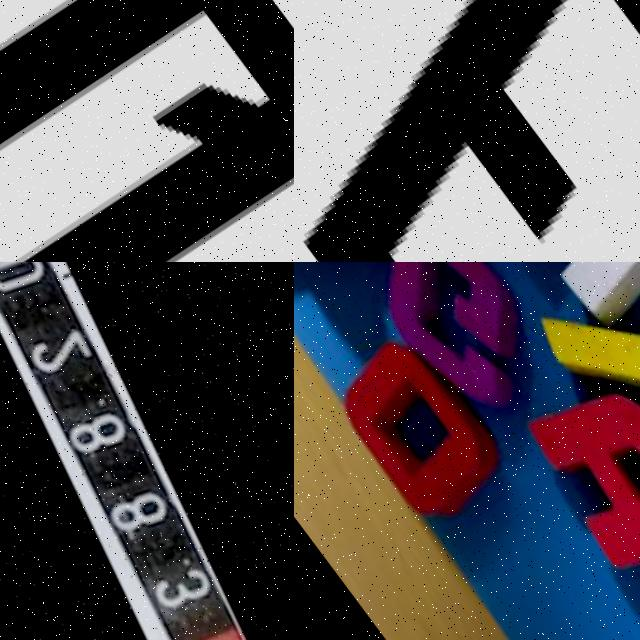0: (0, 262, 53, 309), (163, 618, 252, 640)
2: (5, 303, 95, 387)
3: (128, 540, 214, 619)
8: (43, 383, 135, 470), (83, 462, 174, 546)
E: (294, 0, 573, 262)
G: (323, 262, 570, 436)
H: (455, 262, 640, 336)
L: (527, 262, 640, 536)
O: (302, 312, 518, 546)
Q: (0, 0, 294, 262)
